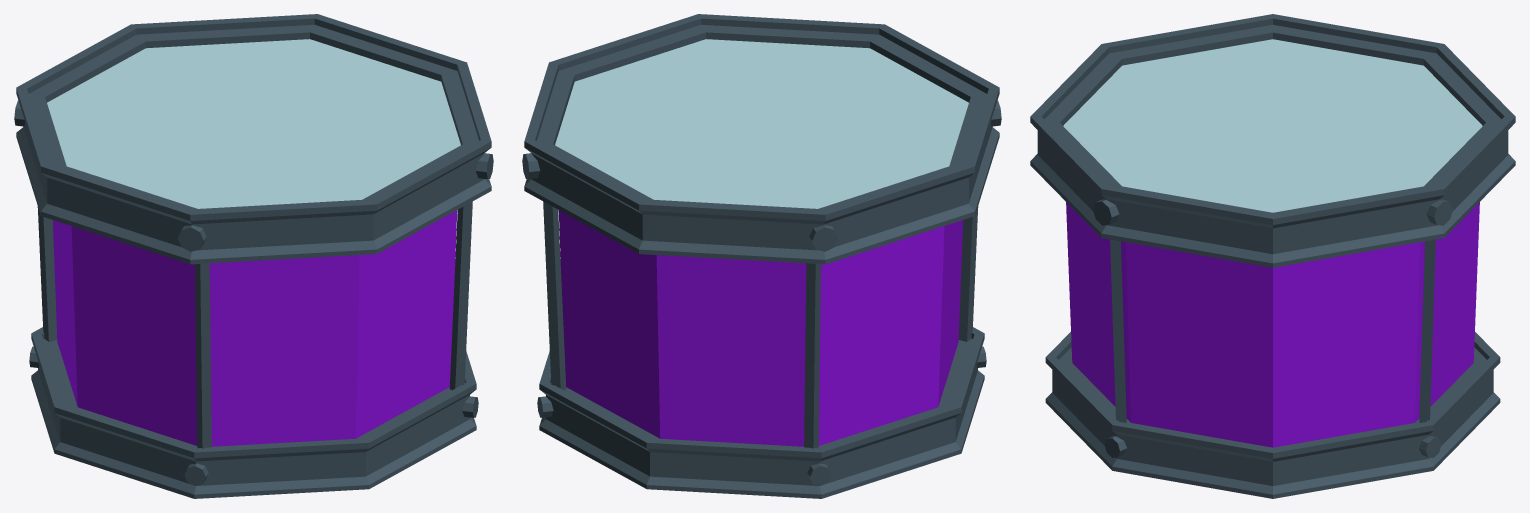
The model's file is Drum_ao.glb.
3 views of the same model, side by side, from view 1: azimuth 30°, elevation 25°; view 2: azimuth 150°, elevation 25°; view 3: azimuth 270°, elevation 25° (orthographic).
Visible parts, largest first — view 1: Drum_Circle.002; view 2: Drum_Circle.002; view 3: Drum_Circle.002.
Boxes of the visible parts, x1,y1,x2,y2 form: Drum_Circle.002: [14, 14, 493, 498]; Drum_Circle.002: [522, 14, 1001, 498]; Drum_Circle.002: [1030, 14, 1515, 498].
Size of the model in its own units: 11.57 by 7.54 by 11.57.
